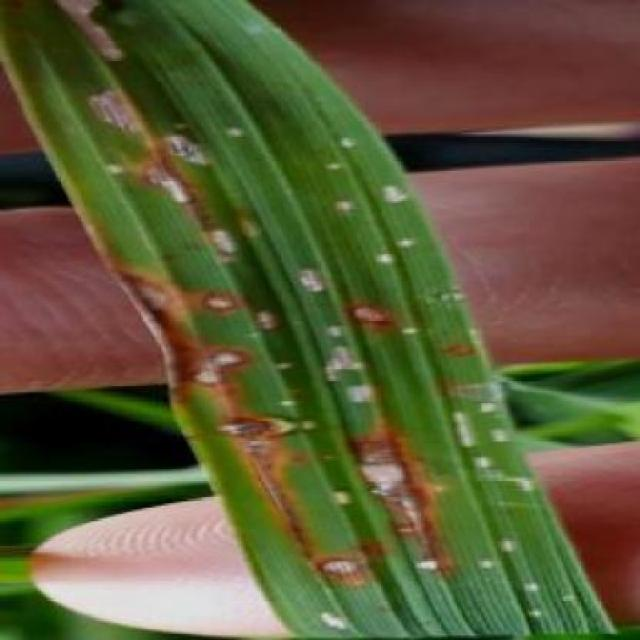Bacterial_Leaf_Blight: (449, 503, 623, 640), (210, 394, 318, 508), (302, 141, 430, 237), (334, 412, 438, 526), (441, 395, 556, 497), (136, 323, 267, 406), (103, 253, 254, 325), (33, 0, 147, 71), (419, 327, 526, 395), (70, 67, 156, 142), (141, 110, 234, 178), (132, 146, 211, 220), (332, 281, 416, 347), (300, 538, 392, 594), (189, 268, 251, 324), (243, 283, 299, 339), (192, 212, 248, 265), (282, 252, 338, 302), (0, 0, 37, 15)
